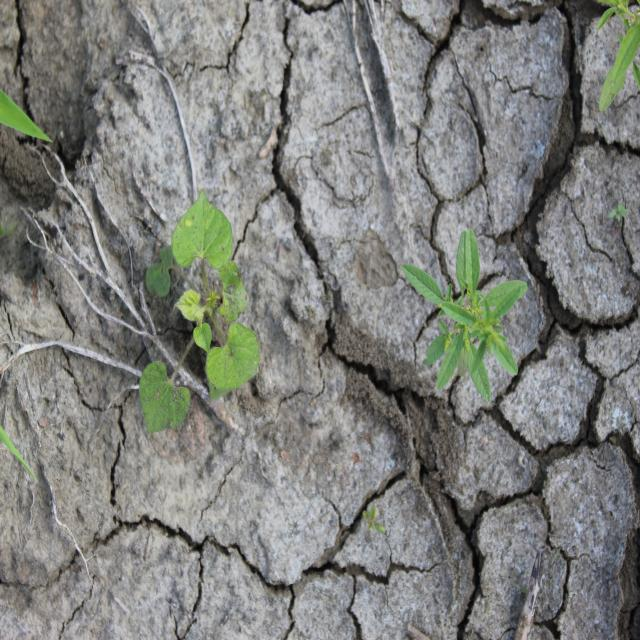MorningGlory: (138, 187, 262, 436)
Waterhemp: (400, 225, 530, 406)
